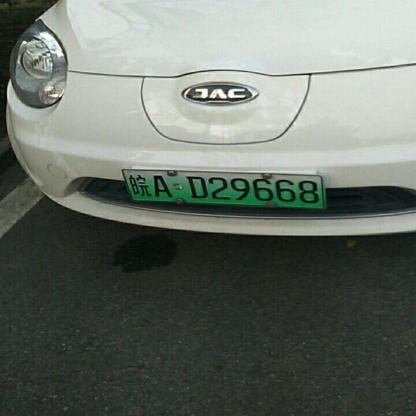lp: (122, 170, 323, 206)
